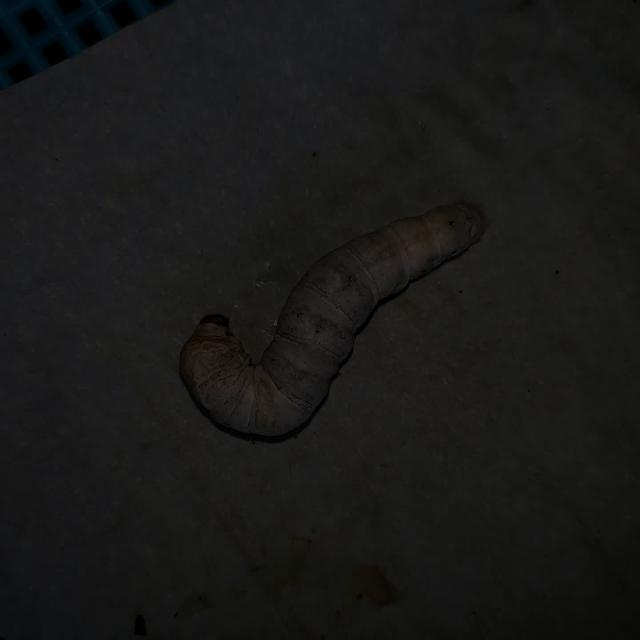Grasserie: (167, 167, 488, 449)
